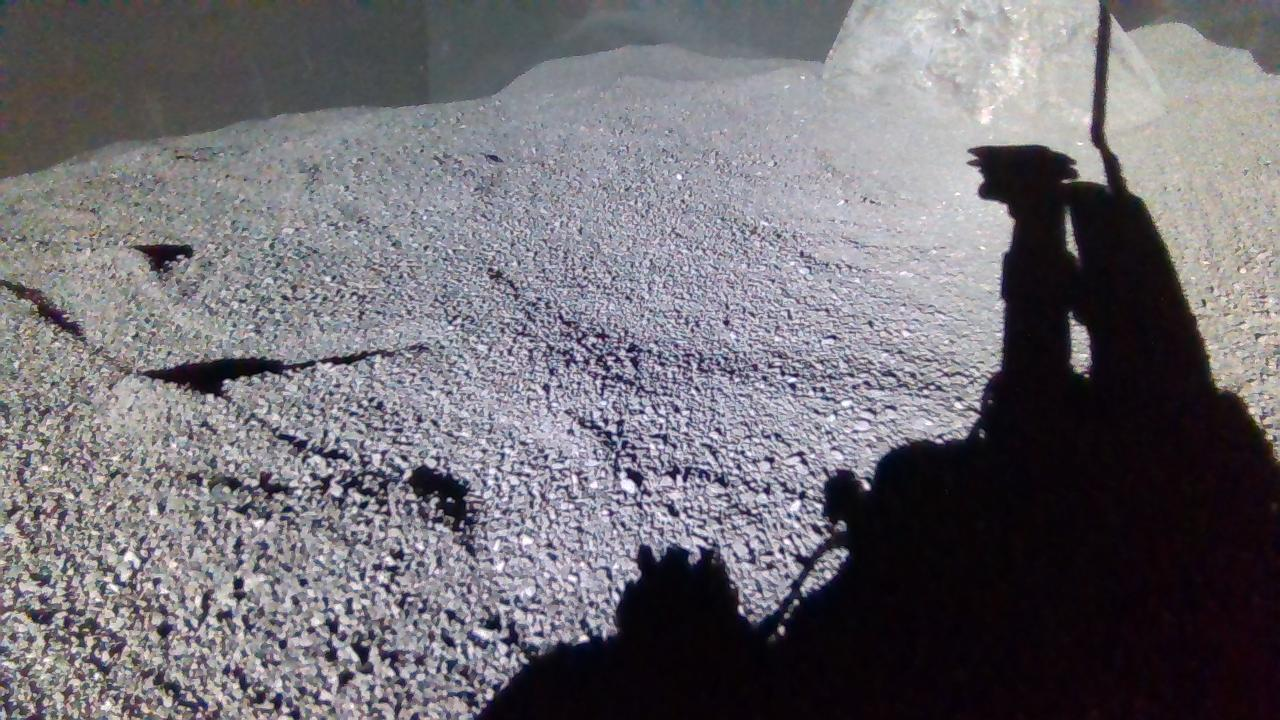rock: (822, 0, 1170, 131)
